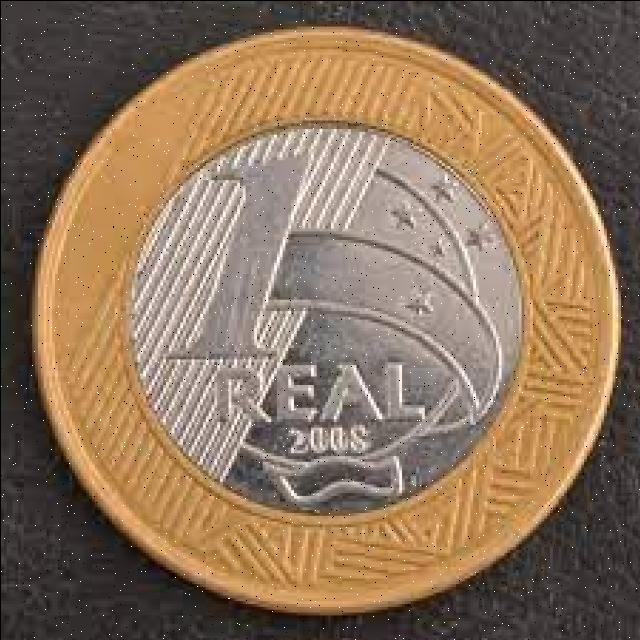1 real: (36, 31, 609, 601)
